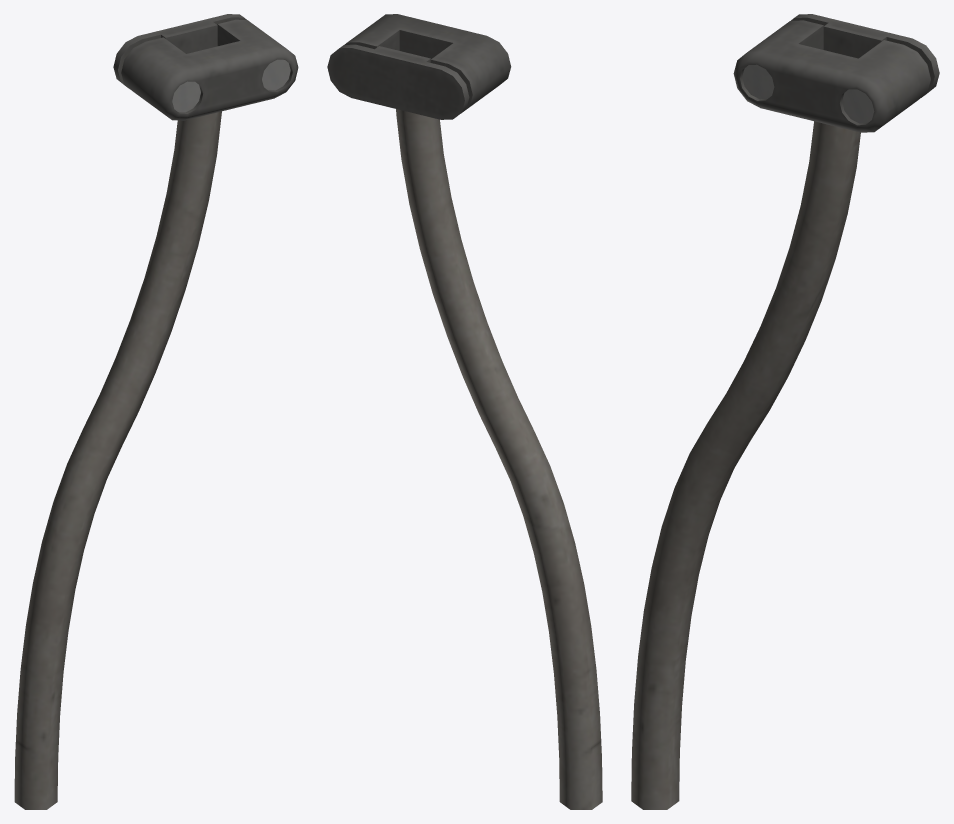
The model's file is cable_cable_scurve_3.fbx.
3 renders of one model, left to right at view 1: azimuth 30°, elevation 25°; view 2: azimuth 150°, elevation 25°; view 3: azimuth 330°, elevation 25°, orthographic. The views are drawn at different scales.
Visible parts, largest first — view 1: modular_electric_cables__cable_scurve_3; view 2: modular_electric_cables__cable_scurve_3; view 3: modular_electric_cables__cable_scurve_3.
Boxes of the visible parts, <box> form: modular_electric_cables__cable_scurve_3: <box>14,14,298,809</box>; modular_electric_cables__cable_scurve_3: <box>327,14,602,809</box>; modular_electric_cables__cable_scurve_3: <box>631,14,939,809</box>.
Bounding box in the file's own units: 0.0757 × 0.2073 × 0.0259.
